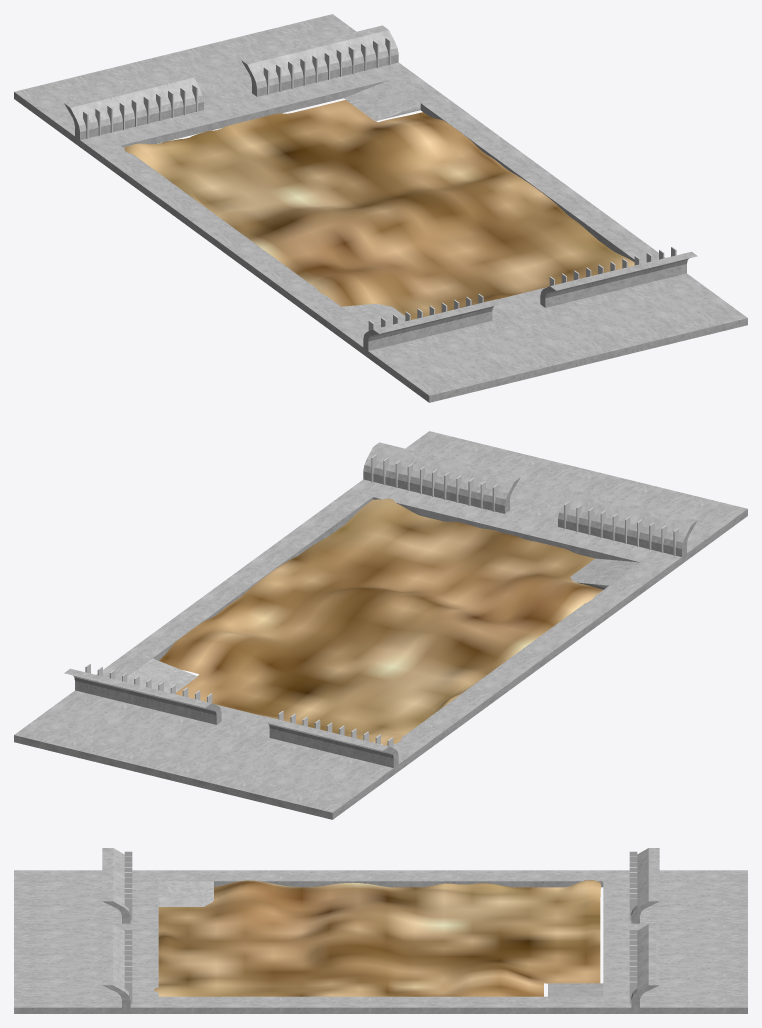
Rendered from Map2.fbx.
3 views of the same model, one above another, from view 1: azimuth 30°, elevation 25°; view 2: azimuth 150°, elevation 25°; view 3: azimuth 270°, elevation 25° (orthographic). The views are drawn at different scales.
Parts seen in each view (by area): view 1: Grid, Grid.001, Cube.002, Cube; view 2: Grid, Grid.001, Cube.002, Cube; view 3: Grid, Grid.001, Cube.002, Cube.
Boxes of the visible parts, x1,y1,x2,y2 form: Grid: (14,14,747,402); Grid.001: (124,100,634,319); Cube.002: (263,37,676,285); Cube: (83,84,483,330); Grid: (14,431,747,819); Grid.001: (159,498,602,745); Cube.002: (85,454,498,702); Cube: (278,501,678,747); Grid: (14,848,747,1013); Grid.001: (154,880,600,996); Cube.002: (124,929,637,1003); Cube: (124,851,637,920).
Size of the model in its own units: 23129 by 2343 by 52214.
